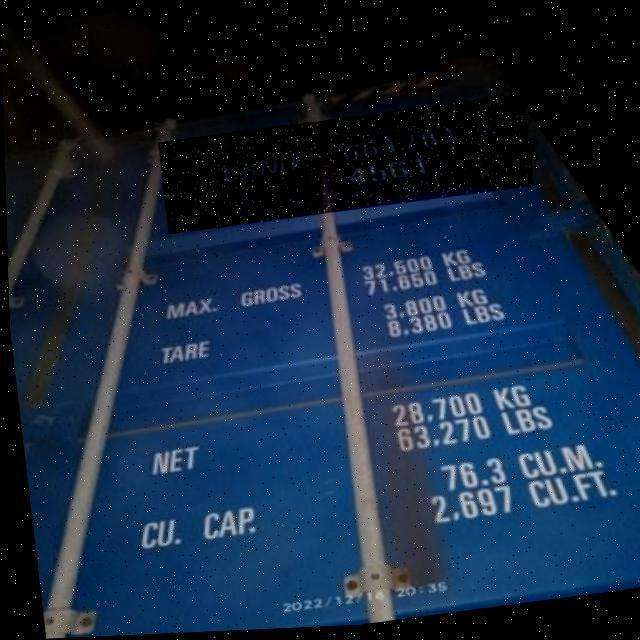container_number_h: (156, 98, 533, 235)
